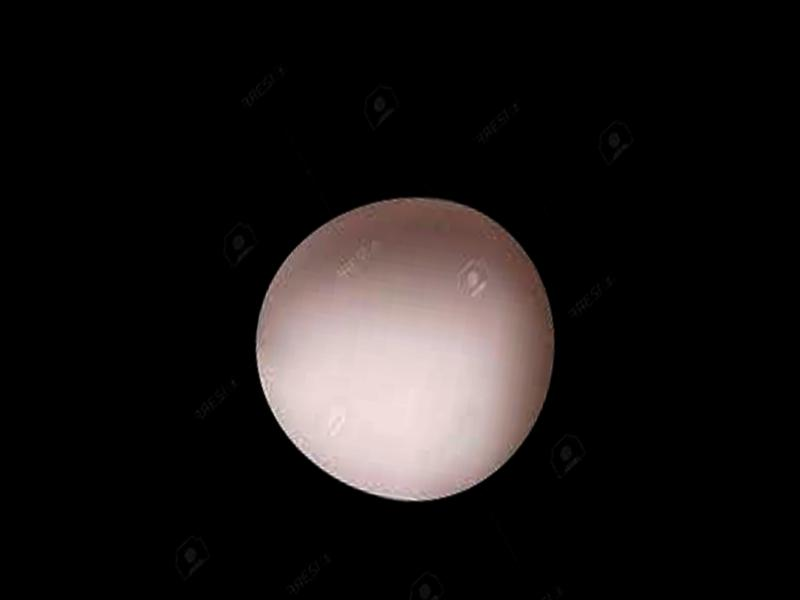Eggs: (236, 179, 573, 519)
